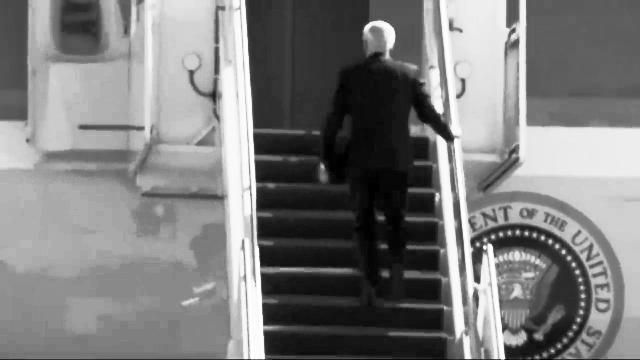berjalan: (294, 8, 464, 316)
